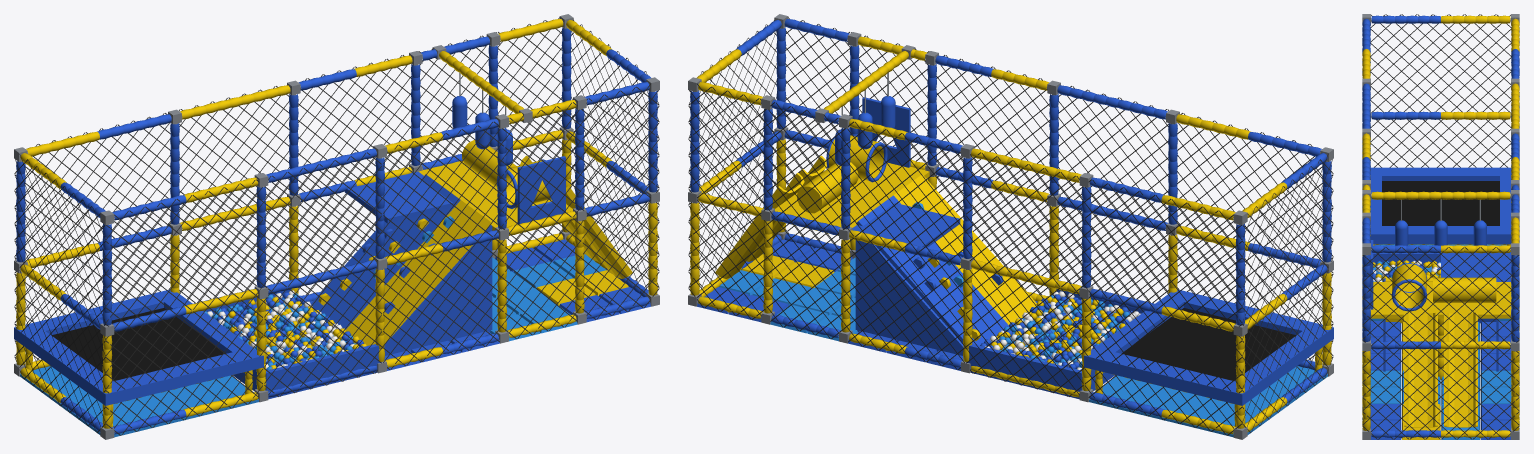
The model's file is mini.glb.
3 renders of one model, left to right at view 1: azimuth 30°, elevation 25°; view 2: azimuth 150°, elevation 25°; view 3: azimuth 270°, elevation 25°, orthographic. The views are drawn at different scales.
Parts seen in each view (by area): view 1: rede, isotubo, plataforma, acolchoado, piso, bolinhas, borracha, metal, plastico; view 2: rede, isotubo, plataforma, acolchoado, piso, bolinhas, borracha, metal, plastico; view 3: isotubo, rede, acolchoado, piso, plastico, plataforma, borracha, metal, bolinhas.
Part boxes in pixels (x1,y1,x2,y2): rede: (14,17,659,435); isotubo: (16,19,657,434); plataforma: (311,156,572,355); acolchoado: (14,96,551,437); piso: (310,239,650,370); bolinhas: (203,290,366,369); borracha: (52,308,226,380); metal: (14,14,659,439); plastico: (318,155,632,313); rede: (688,17,1333,435); isotubo: (690,19,1331,434); plataforma: (775,97,1036,355); acolchoado: (797,96,1333,437); piso: (697,239,1037,370); bolinhas: (980,291,1140,369); borracha: (1121,308,1295,380); metal: (688,14,1333,439); plastico: (715,155,1003,340); isotubo: (1362,15,1519,438); rede: (1362,14,1519,439); acolchoado: (1362,167,1519,320); piso: (1370,321,1511,439); plastico: (1404,312,1477,427); plataforma: (1370,240,1511,371); borracha: (1382,181,1499,225); metal: (1362,14,1519,439); bolinhas: (1373,260,1440,281).
Size of the model in its own units: 0.7 by 0.27 by 0.2.
9 materials, 8 textured.
